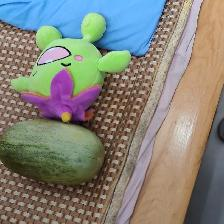gua: (12, 123, 99, 174)
